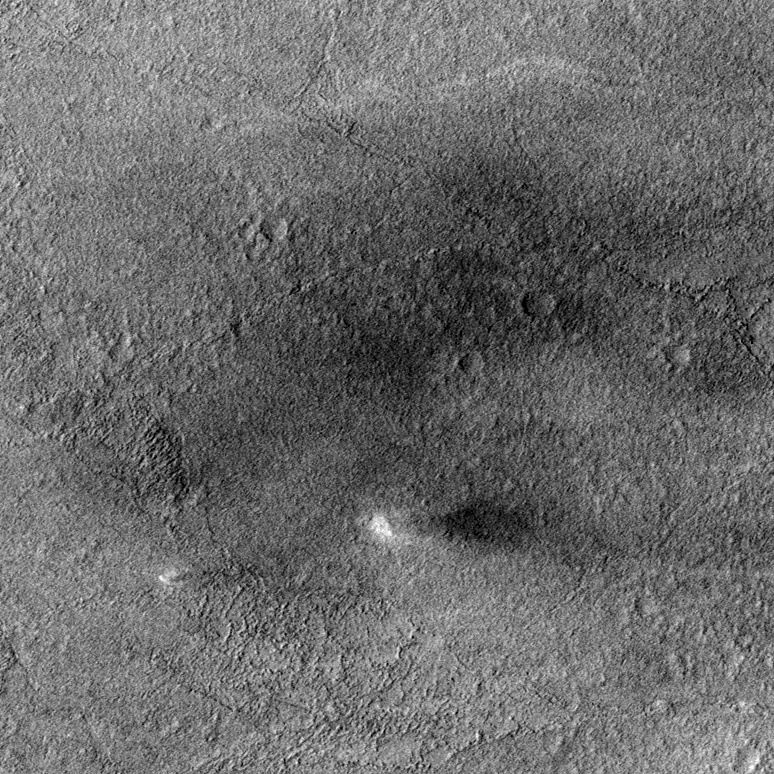dust_devil: (357, 496, 548, 555), (156, 566, 216, 590)
